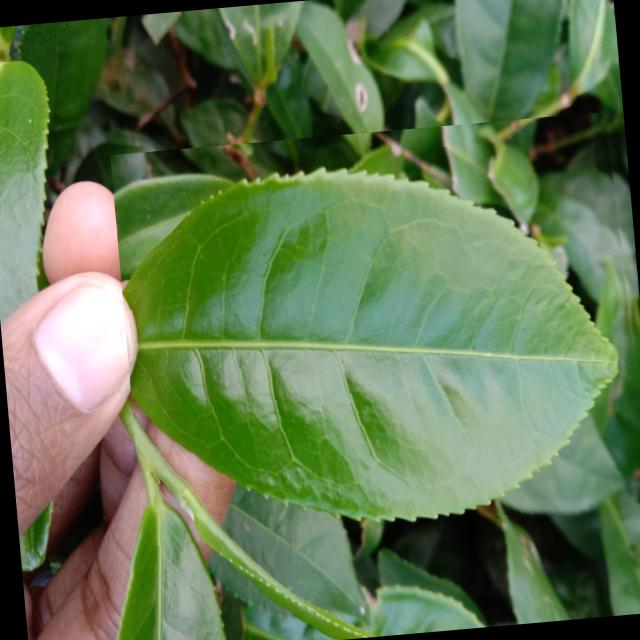Category C 4-7 days: (108, 110, 640, 563)
